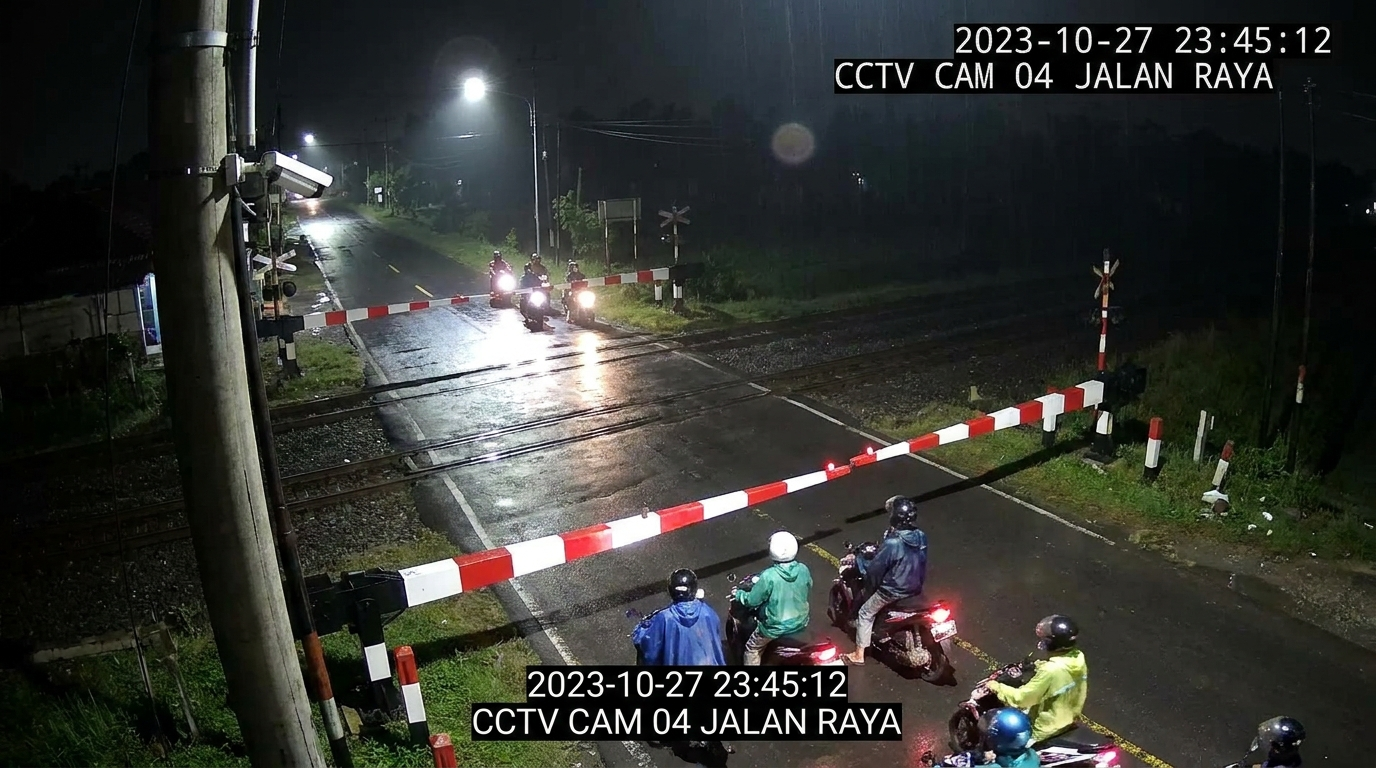safe: (317, 381, 1105, 609), (305, 297, 468, 328), (556, 268, 672, 286)
